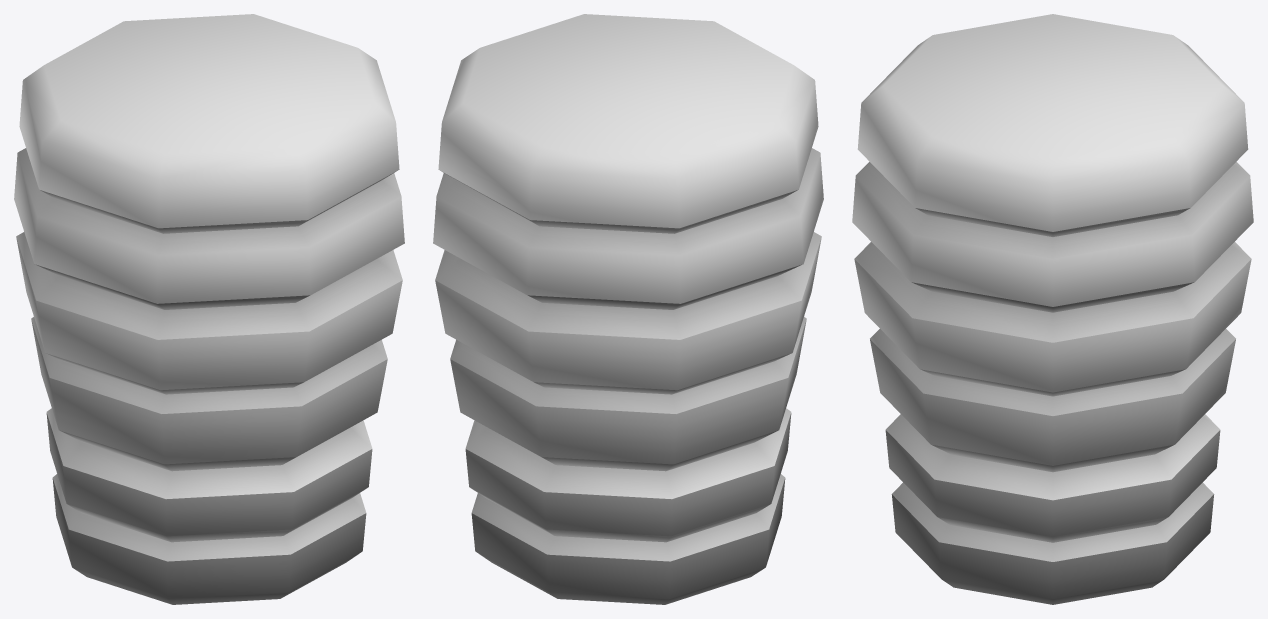
Rendered from stone_grip_054.glb.
3 renders of one model, left to right at view 1: azimuth 30°, elevation 25°; view 2: azimuth 150°, elevation 25°; view 3: azimuth 270°, elevation 25°, orthographic.
Parts seen in each view (by area): view 1: stone_grip.054; view 2: stone_grip.054; view 3: stone_grip.054.
Boxes of the visible parts, x1,y1,x2,y2 form: stone_grip.054: [14, 14, 404, 604]; stone_grip.054: [433, 14, 823, 604]; stone_grip.054: [852, 14, 1253, 604].
Size of the model in its own units: 2.37 by 3 by 2.37.
Materials: 1 (1 with a texture image).
